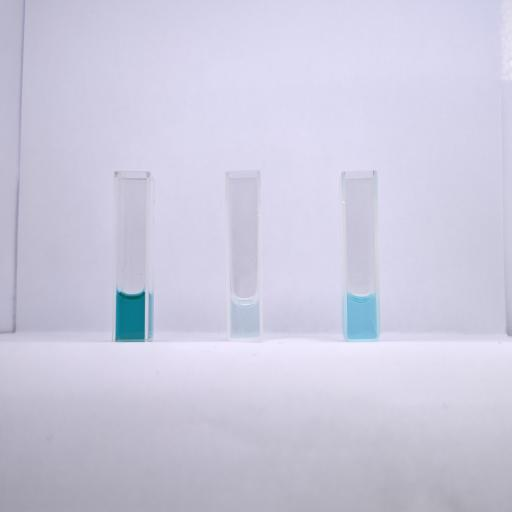cuvette: (223, 168, 265, 343), (340, 169, 381, 342), (111, 170, 151, 343)
liquid: (116, 291, 145, 339), (348, 292, 376, 338), (231, 296, 259, 337)
